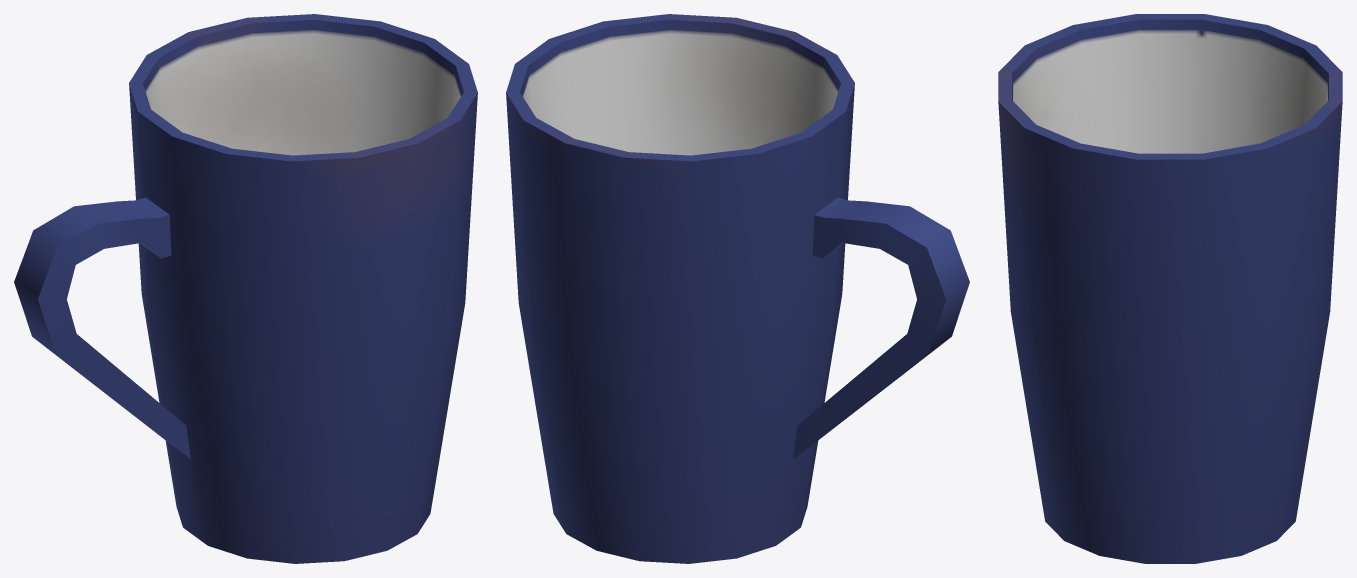
File: CupB.FBX
3 views of the same model, side by side, from view 1: azimuth 30°, elevation 25°; view 2: azimuth 150°, elevation 25°; view 3: azimuth 270°, elevation 25° (orthographic).
Parts seen in each view (by area): view 1: CupB_LOD0; view 2: CupB_LOD0; view 3: CupB_LOD0.
Boxes of the visible parts, x1,y1,x2,y2 form: CupB_LOD0: (14,14,477,563); CupB_LOD0: (506,14,969,563); CupB_LOD0: (998,14,1342,563).
Size of what is drawn, in the model's own units: 12.66 by 12 by 8.83.
